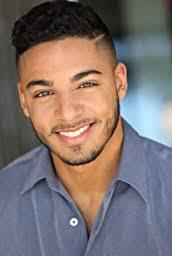Sober: (19, 52, 114, 156)
